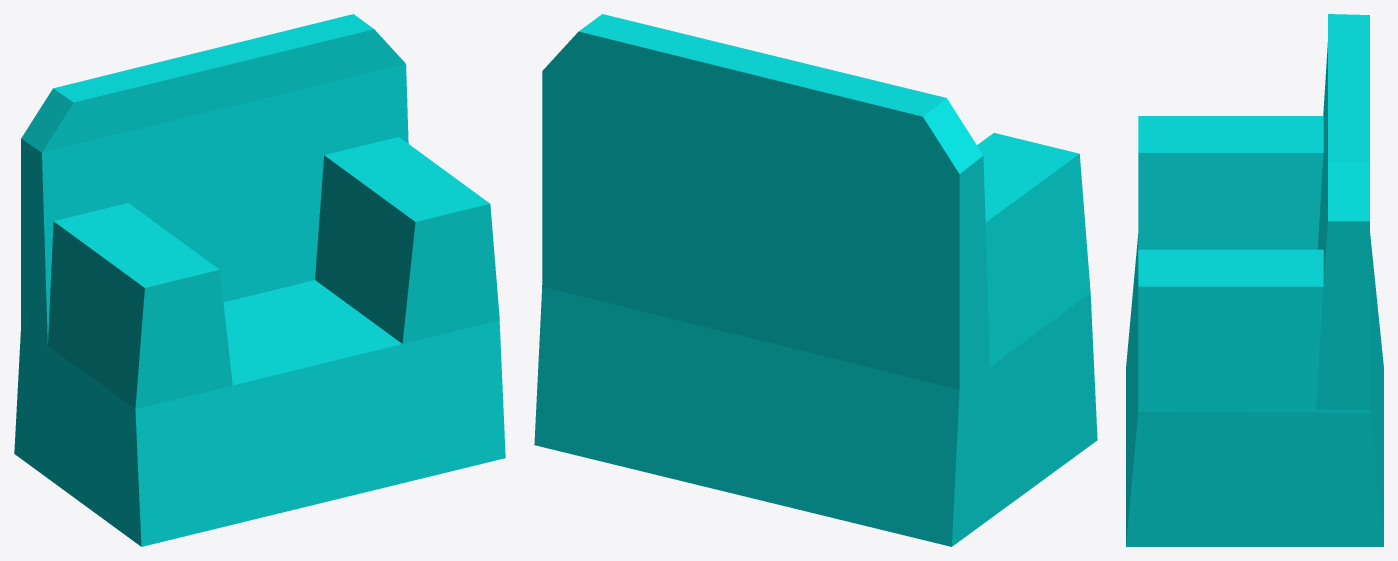
File: SM_Prop_Couch_01_Collision.fbx
The picture shows the model from 3 angles, left to right: view 1: azimuth 30°, elevation 25°; view 2: azimuth 150°, elevation 25°; view 3: azimuth 270°, elevation 25°; orthographic projection. The views are drawn at different scales.
Visible parts, largest first — view 1: SM_Prop_Couch_01_Collision; view 2: SM_Prop_Couch_01_Collision; view 3: SM_Prop_Couch_01_Collision.
Part boxes in pixels (x1=…): SM_Prop_Couch_01_Collision: x1=14, y1=14, x2=505, y2=546; SM_Prop_Couch_01_Collision: x1=534, y1=14, x2=1097, y2=546; SM_Prop_Couch_01_Collision: x1=1126, y1=14, x2=1383, y2=546.
Size of the model in its own units: 142 by 135 by 85.83.
